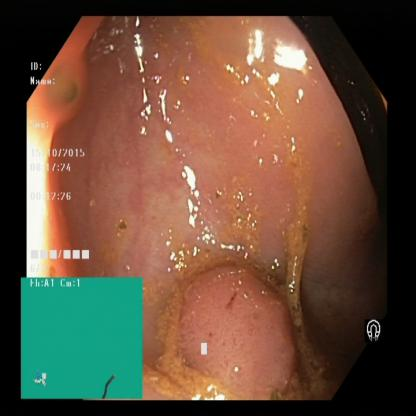Labels: (25, 56, 99, 278), (20, 277, 147, 397), (358, 300, 387, 351)
Polyps: (176, 260, 294, 393)
